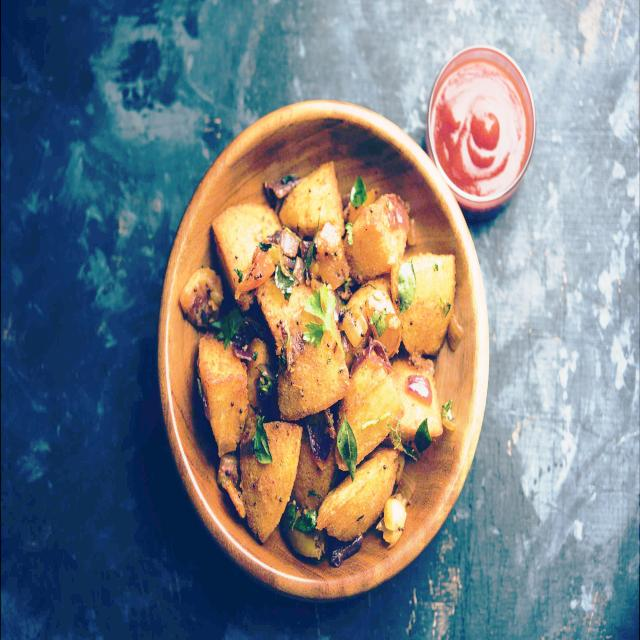ketchup: (428, 52, 536, 215)
